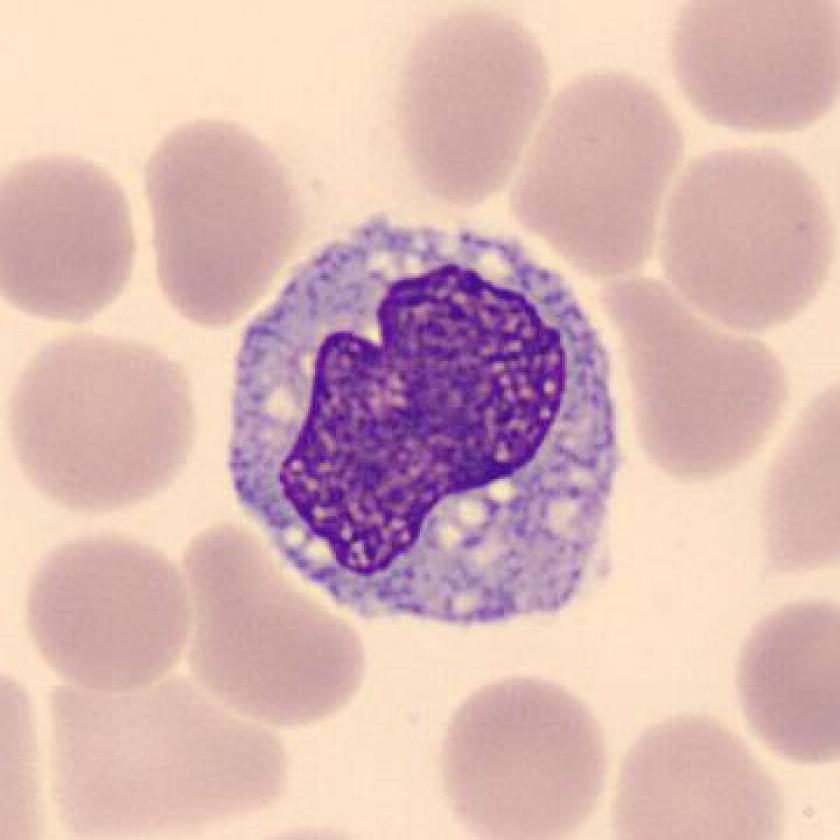monocyte: (213, 193, 650, 649)
